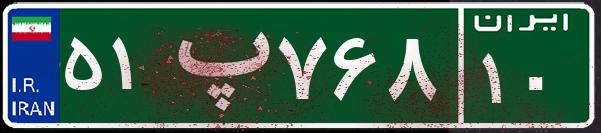0: (525, 38, 570, 115)
1: (475, 38, 525, 113), (110, 28, 158, 105)
5: (57, 26, 110, 107)
6: (330, 28, 385, 110)
7: (273, 28, 330, 110)
8: (385, 28, 445, 110)
پ: (158, 15, 273, 115)
